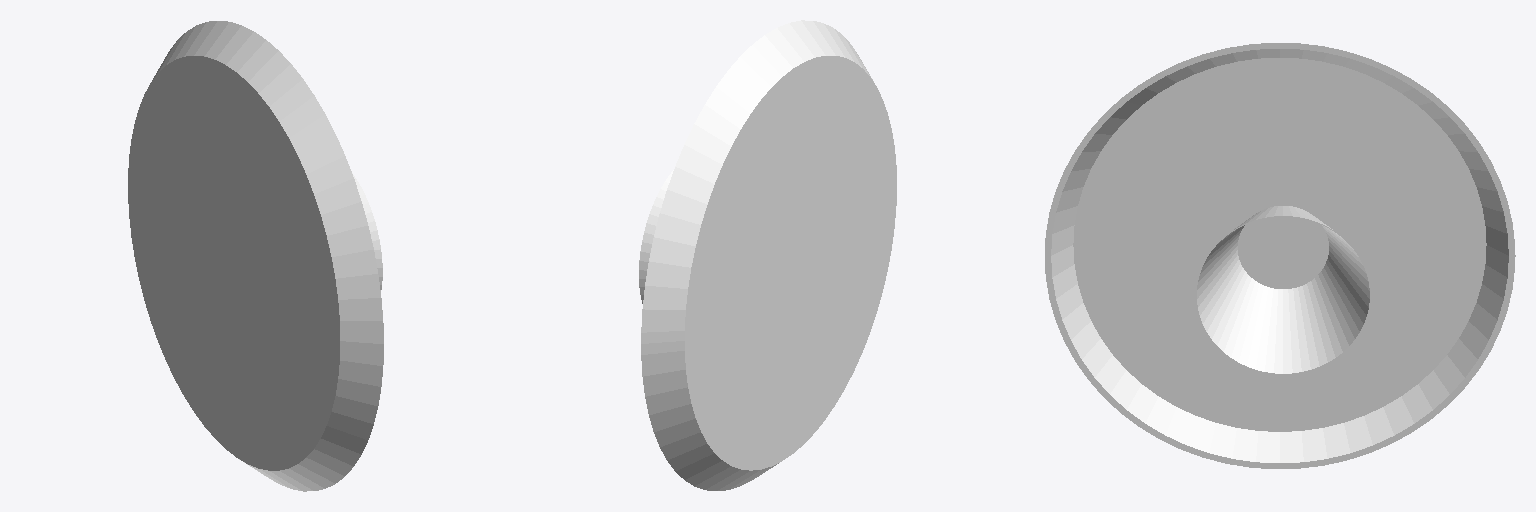
URDF robot description (gen3_robotiq_2f_85):
<?xml version="1.0" ?>
<!-- =================================================================================== -->
<!-- |    This document was autogenerated by xacro from gen3_robotiq_2f_85.xacro       | -->
<!-- |    EDITING THIS FILE BY HAND IS NOT RECOMMENDED                                 | -->
<!-- =================================================================================== -->
<robot name="gen3_robotiq_2f_85">
  <!-- Run the macros -->
  <link name="base">
    <inertial>
      <origin rpy="0 0 0" xyz="-0.000648 -0.000166 0.084487"/>
      <mass value="1.697"/>
      <inertia ixx="0.004622" ixy="9E-06" ixz="6E-05" iyy="0.004495" iyz="9E-06" izz="0.002079"/>
    </inertial>
    <visual>
      <origin rpy="0 0 0" xyz="0 0 0"/>
      <geometry>
        <mesh filename="meshes/base_link.obj"/>
      </geometry>
      <material name="">
        <color rgba="0.75294 0.75294 0.75294 1"/>
      </material>
    </visual>
    <collision>
      <origin rpy="0 0 0" xyz="0 0 0"/>
      <geometry>
        <mesh filename="meshes/base_link.obj"/>
      </geometry>
    </collision>
  </link>

  <link name="shoulder_link">
    <inertial>
      <origin rpy="0 0 0" xyz="-2.3E-05 -0.010364 -0.07336"/>
      <mass value="1.3773"/>
      <inertia ixx="0.00457" ixy="1E-06" ixz="2E-06" iyy="0.004831" iyz="0.000448" izz="0.001409"/>
    </inertial>
    <visual>
      <origin rpy="0 0 0" xyz="0 0 0"/>
      <geometry>
        <mesh filename="meshes/shoulder_link.obj"/>
      </geometry>
      <material name="">
        <color rgba="0.75294 0.75294 0.75294 1"/>
      </material>
    </visual>
    <collision>
      <origin rpy="0 0 0" xyz="0 0 0"/>
      <geometry>
        <mesh filename="meshes/shoulder_link.obj"/>
      </geometry>
    </collision>
  </link>

  <joint name="joint_1" type="continuous">
    <origin rpy="3.1416 2.7629E-18 -4.9305E-36" xyz="0 0 0.15643"/>
    <parent link="base"/>
    <child link="shoulder_link"/>
    <axis xyz="0 0 1"/>
    <limit effort="39" velocity="1.3963"/>
  </joint>

  <link name="half_arm_1_link">
    <inertial>
      <origin rpy="0 0 0" xyz="-4.4E-05 -0.09958 -0.013278"/>
      <mass value="1.1636"/>
      <inertia ixx="0.011088" ixy="5E-06" ixz="0" iyy="0.001072" iyz="-0.000691" izz="0.011255"/>
    </inertial>
    <visual>
      <origin rpy="0 0 0" xyz="0 0 0"/>
      <geometry>
        <mesh filename="meshes/half_arm_1_link.obj"/>
      </geometry>
      <material name="">
        <color rgba="0.75294 0.75294 0.75294 1"/>
      </material>
    </visual>
    <collision>
      <origin rpy="0 0 0" xyz="0 0 0"/>
      <geometry>
        <mesh filename="meshes/half_arm_1_link.obj"/>
      </geometry>
    </collision>
  </link>

  <joint name="joint_2" type="revolute">
    <origin rpy="1.5708 2.1343E-17 -1.1102E-16" xyz="0 0.005375 -0.12838"/>
    <parent link="shoulder_link"/>
    <child link="half_arm_1_link"/>
    <axis xyz="0 0 1"/>
    <limit effort="39" lower="-2.41" upper="2.41" velocity="1.3963"/>
  </joint>

  <link name="half_arm_2_link">
    <inertial>
      <origin rpy="0 0 0" xyz="-4.4E-05 -0.006641 -0.117892"/>
      <mass value="1.1636"/>
      <inertia ixx="0.010932" ixy="0" ixz="-7E-06" iyy="0.011127" iyz="0.000606" izz="0.001043"/>
    </inertial>
    <visual>
      <origin rpy="0 0 0" xyz="0 0 0"/>
      <geometry>
        <mesh filename="meshes/half_arm_2_link.obj"/>
      </geometry>
      <material name="">
        <color rgba="0.75294 0.75294 0.75294 1"/>
      </material>
    </visual>
    <collision>
      <origin rpy="0 0 0" xyz="0 0 0"/>
      <geometry>
        <mesh filename="meshes/half_arm_2_link.obj"/>
      </geometry>
    </collision>
  </link>

  <joint name="joint_3" type="continuous">
    <origin rpy="-1.5708 1.2326E-32 -2.9122E-16" xyz="0 -0.21038 -0.006375"/>
    <parent link="half_arm_1_link"/>
    <child link="half_arm_2_link"/>
    <axis xyz="0 0 1"/>
    <limit effort="39" velocity="1.3963"/>
  </joint>

  <link name="forearm_link">
    <inertial>
      <origin rpy="0 0 0" xyz="-1.8E-05 -0.075478 -0.015006"/>
      <mass value="0.9302"/>
      <inertia ixx="0.008147" ixy="-1E-06" ixz="0" iyy="0.000631" iyz="-0.0005" izz="0.008316"/>
    </inertial>
    <visual>
      <origin rpy="0 0 0" xyz="0 0 0"/>
      <geometry>
        <mesh filename="meshes/forearm_link.obj"/>
      </geometry>
      <material name="">
        <color rgba="0.75294 0.75294 0.75294 1"/>
      </material>
    </visual>
    <collision>
      <origin rpy="0 0 0" xyz="0 0 0"/>
      <geometry>
        <mesh filename="meshes/forearm_link.obj"/>
      </geometry>
    </collision>
  </link>

  <joint name="joint_4" type="revolute">
    <origin rpy="1.5708 -6.6954E-17 -1.6653E-16" xyz="0 0.006375 -0.21038"/>
    <parent link="half_arm_2_link"/>
    <child link="forearm_link"/>
    <axis xyz="0 0 1"/>
    <limit effort="39" lower="-2.66" upper="2.66" velocity="1.3963"/>
  </joint>

  <link name="spherical_wrist_1_link">
    <inertial>
      <origin rpy="0 0 0" xyz="1E-06 -0.009432 -0.063883"/>
      <mass value="0.6781"/>
      <inertia ixx="0.001596" ixy="0" ixz="0" iyy="0.001607" iyz="0.000256" izz="0.000399"/>
    </inertial>
    <visual>
      <origin rpy="0 0 0" xyz="0 0 0"/>
      <geometry>
        <mesh filename="meshes/spherical_wrist_1_link.obj"/>
      </geometry>
      <material name="">
        <color rgba="0.75294 0.75294 0.75294 1"/>
      </material>
    </visual>
    <collision>
      <origin rpy="0 0 0" xyz="0 0 0"/>
      <geometry>
        <mesh filename="meshes/spherical_wrist_1_link.obj"/>
      </geometry>
    </collision>
  </link>

  <joint name="joint_5" type="continuous">
    <origin rpy="-1.5708 2.2204E-16 -6.373E-17" xyz="0 -0.20843 -0.006375"/>
    <parent link="forearm_link"/>
    <child link="spherical_wrist_1_link"/>
    <axis xyz="0 0 1"/>
    <limit effort="9" velocity="1.2218"/>
  </joint>

  <link name="spherical_wrist_2_link">
    <inertial>
      <origin rpy="0 0 0" xyz="1E-06 -0.045483 -0.00965"/>
      <mass value="0.6781"/>
      <inertia ixx="0.001641" ixy="0" ixz="0" iyy="0.00041" iyz="-0.000278" izz="0.001641"/>
    </inertial>
    <visual>
      <origin rpy="0 0 0" xyz="0 0 0"/>
      <geometry>
        <mesh filename="meshes/spherical_wrist_2_link.obj"/>
      </geometry>
      <material name="">
        <color rgba="0.75294 0.75294 0.75294 1"/>
      </material>
    </visual>
    <collision>
      <origin rpy="0 0 0" xyz="0 0 0"/>
      <geometry>
        <mesh filename="meshes/spherical_wrist_2_link.obj"/>
      </geometry>
    </collision>
  </link>

  <joint name="joint_6" type="revolute">
    <origin rpy="1.5708 9.2076E-28 -8.2157E-15" xyz="0 0.00017505 -0.10593"/>
    <parent link="spherical_wrist_1_link"/>
    <child link="spherical_wrist_2_link"/>
    <axis xyz="0 0 1"/>
    <limit effort="9" lower="-2.23" upper="2.23" velocity="1.2218"/>
  </joint>

  <link name="bracelet_link">
    <inertial>
      <!-- This is different from the documentation -->
      <origin rpy="0 0 0" xyz="0.000281 0.011402 -0.029798"/>
      <mass value="0.5"/>
      <inertia ixx="0.000587" ixy="3E-06" ixz="3E-06" iyy="0.000369" iyz="-0.000118" izz="0.000609"/>
    </inertial>
    <visual>
      <origin rpy="0 0 0" xyz="0 0 0"/>
      <geometry>
        <mesh filename="meshes/bracelet_with_vision_link.obj"/>
      </geometry>
      <material name="">
        <color rgba="0.75294 0.75294 0.75294 1"/>
      </material>
    </visual>
    <collision>
      <origin rpy="0 0 0" xyz="0 0 0"/>
      <geometry>
        <mesh filename="meshes/bracelet_with_vision_link.obj"/>
      </geometry>
    </collision>
  </link>

  <joint name="joint_7" type="continuous">
    <origin rpy="-1.5708 -5.5511E-17 9.6396E-17" xyz="0 -0.10593 -0.00017505"/>
    <parent link="spherical_wrist_2_link"/>
    <child link="bracelet_link"/>
    <axis xyz="0 0 1"/>
    <limit effort="9" velocity="1.2218"/>
  </joint>

  <!-- gripper code -->


  <joint name="gripper_base_joint" type="fixed">
    <!--
    <parent link="end_effector_link"/>
  -->
    <parent link="bracelet_link"/>
    <child link="gripper_base"/>
    <origin rpy="1.5707 0.0 0.0" xyz="0.0 0.0 -0.0615250000000001"/>
    <!-- 1.57 -->
  </joint>

  <link name="gripper_base">
    <inertial>
      <origin rpy="0 0 0" xyz="6.91E-06 4.4117E-06 0.031656"/>
      <mass value="0.60831"/>
      <inertia ixx="0.0004596" ixy="1.5559E-09" ixz="1.397E-07" iyy="0.0005181" iyz="-1.0325E-11" izz="0.00036051"/>
    </inertial>
    <visual>
      <origin rpy="0 0 0" xyz="0 0 0"/>
      <geometry>
        <mesh filename="meshes/base_of_gripper.obj"/>
      </geometry>
      <material name="">
        <color rgba="0.89804 0.91765 0.92941 0.25"/>
      </material>
    </visual>
    <collision>
      <origin rpy="0 0 0" xyz="0 0 0"/>
      <geometry>
        <mesh filename="meshes/base_of_gripper.obj"/>
      </geometry>
    </collision>
  </link>

  <!-- tray and object code -->

  <joint name="waiter_tray_joint" type="fixed">
     <origin rpy="0 1.5707 0" xyz="0 -0.14948 0" /> <!-- offset from base of gripper -->
     <parent link="gripper_base" />
     <child link="waiter_tray_link" />
  </joint>

  <link name="waiter_tray_link"> <!-- updated for circular tray -->
    <inertial>
      <origin rpy="0 0 0" xyz="0 -0.144 0" /> <!-- updated for hardware -->
      <mass value="0.354" /> <!-- updated for hardware -->
      <inertia ixx="0.00001806328" ixy="0" ixz="0" iyy="0.00001806328" iyz="0" izz="0.00003596782" /> <!-- updated for hardware -->
    </inertial>
    <visual>
      <origin rpy="0 0 0" xyz="0 0 0"/>
      <geometry>
        <mesh filename="meshes/circ_tray_hardware_shift_scale_v4.obj" /> <!-- need to be updated -->
      </geometry>
      <material name="">
      <color rgba="1 1 1 1" />
      </material>
    </visual>
    <collision>
      <origin rpy="0 0 0" xyz="0 0 0"/>
      <geometry>
        <mesh filename="meshes/circ_tray_hardware_shift_scale_v4.obj" /> <!-- need to be updated -->
      </geometry>
    </collision>
  </link>

  <!-- Joint 10 -->
  <!-- NOTE this has been changed to be continuous joint for the sole purpose of using this urdf with the composite link code -->
  <joint name="contact_joint" type="continuous">
     <origin rpy="0 0 0" xyz="0 -0.106 0.002" /> <!-- needs to be updated --> 
     <axis xyz = "0 0 1"/>
     <parent link="waiter_tray_link" />
     <child link="object_link" />
     <limit effort="9" velocity="1.2218"/>
  </joint>

  <link name="object_link">
    <inertial>
      <origin rpy="0 0 0" xyz="0 0 0.0291" /> <!-- updated for hardware -->
      <mass value="0.592" /> <!-- updated for hardware -->
      <inertia ixx="0.00033005074" ixy="0.0" ixz="0.0" iyy="0.00033005074" iyz="0.0" izz="0.00042925501" /> <!-- updated for hardware -->
    </inertial>
    <visual>
      <origin rpy="0 0 0" xyz="0 0 0" />
      <geometry>
        <mesh filename="meshes/cup_hardware_shifted_scaled_rotated.obj" /> <!-- updated for hardware -->
          <!-- scale="0.001 0.001 0.001" -->
      </geometry>
      <material name="">
        <color rgba="1 1 1 1" />
      </material>
    </visual>
    <collision>
      <origin rpy="0 0 0" xyz="0 0 0" />
      <geometry>
        <mesh filename="meshes/cup_hardware_shifted_scaled_rotated.obj" /> <!-- updated for hardware -->
      </geometry>
    </collision>
  </link>


</robot>

--- Facts derived from the render (not from the file) ---
The picture shows the robot from 3 angles, left to right: view 1: azimuth 30°, elevation 25°; view 2: azimuth 150°, elevation 25°; view 3: azimuth 270°, elevation 25°; orthographic projection.
Robot: gen3_robotiq_2f_85 — 11 links, 10 joints (3 revolute, 5 continuous, 2 fixed); root link base; default pose: every joint at zero.
Links seen in each view (by area): view 1: waiter_tray_link, object_link; view 2: waiter_tray_link, object_link; view 3: waiter_tray_link, object_link.
Link boxes in pixels (x1,y1,x2,y2): waiter_tray_link: (128, 21, 383, 491); object_link: (352, 173, 382, 289); waiter_tray_link: (641, 20, 896, 490); object_link: (639, 170, 673, 303); waiter_tray_link: (1045, 43, 1515, 468); object_link: (1196, 206, 1370, 374).
Bounding box of the posed robot: 0.072 × 0.285 × 0.2849 m (x, y, z).
Meshes: 11 distinct files referenced, 2 mesh visuals loaded (2 OBJ); not drawn: 9 (reference not matched to a file when rendering).